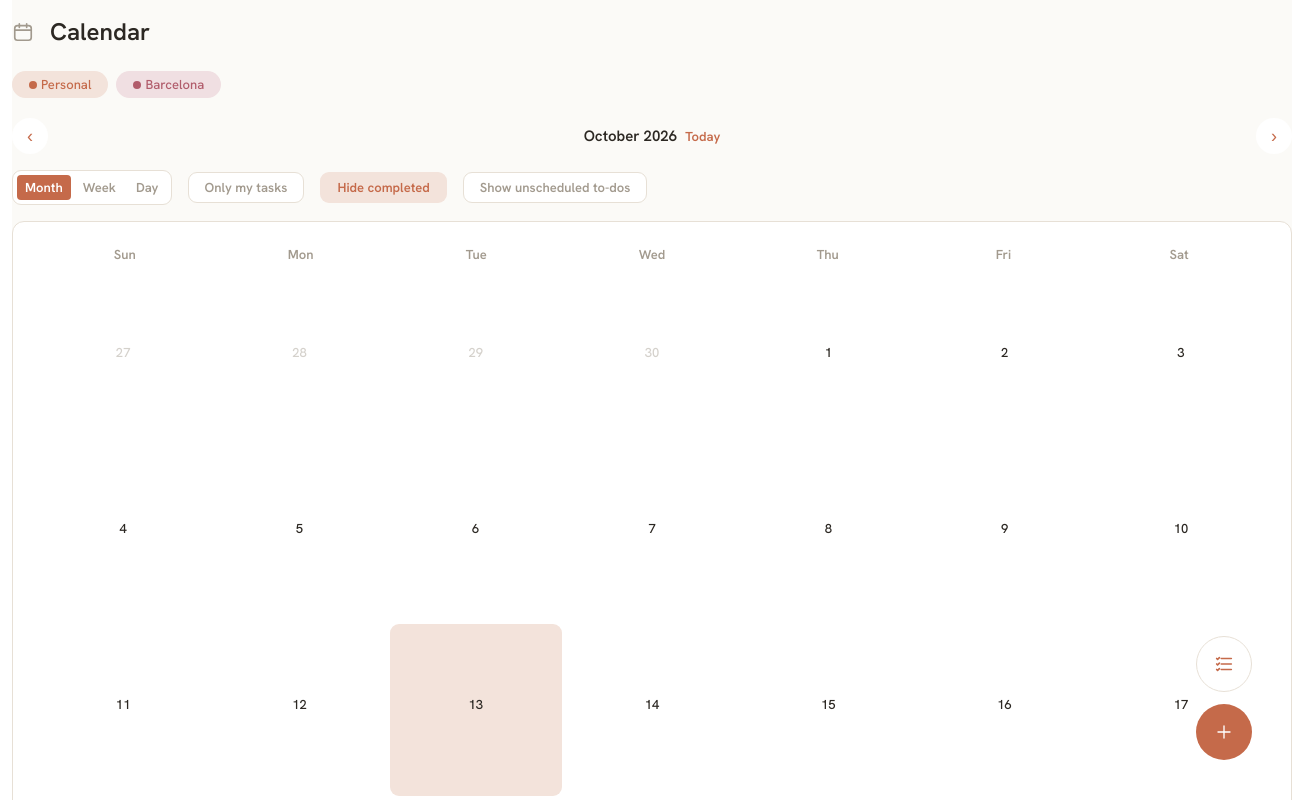
Test: CalendarPage › reveals the content toggle when switching to the week view
Check: the button "Both" is not shown
Click the button "Week". click: [99, 188]
box: [75,175,124,200]
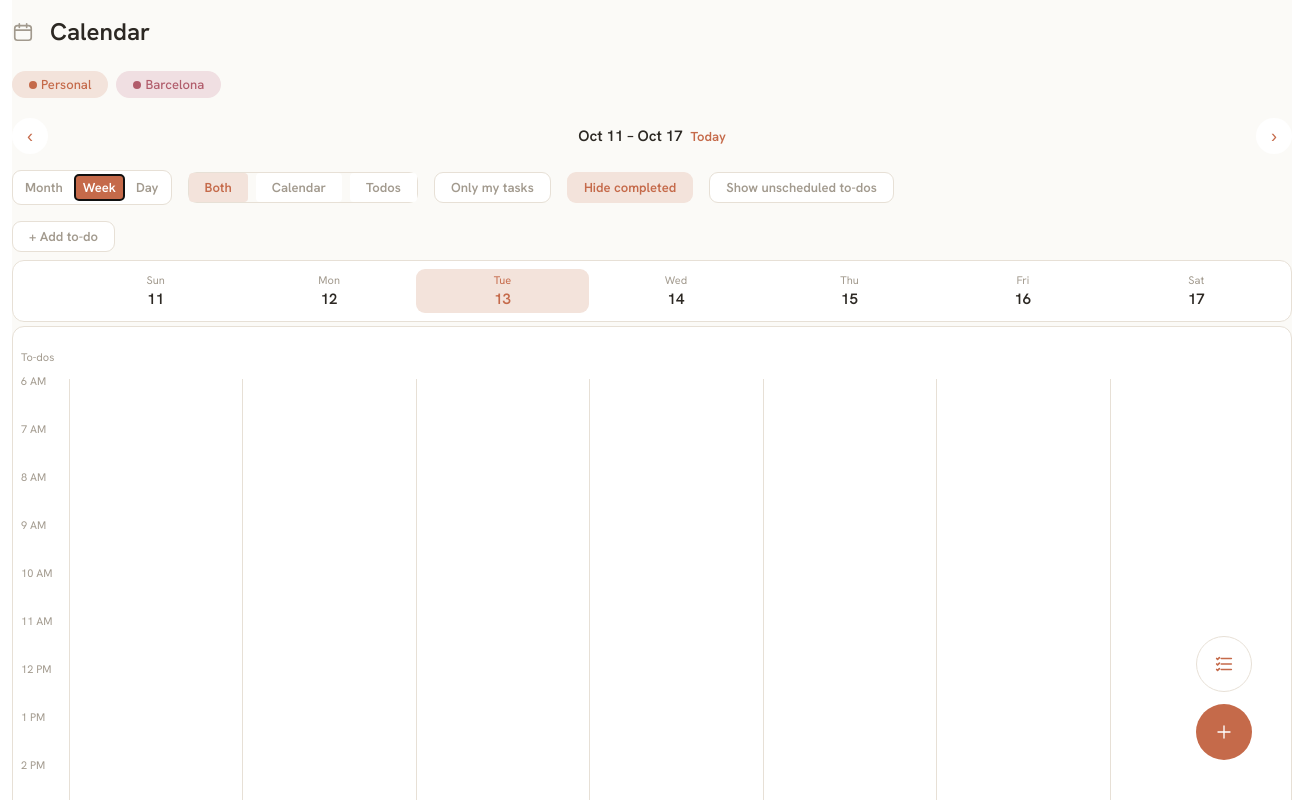
Check: the button "Both" is shown, box [188,173,248,202]
